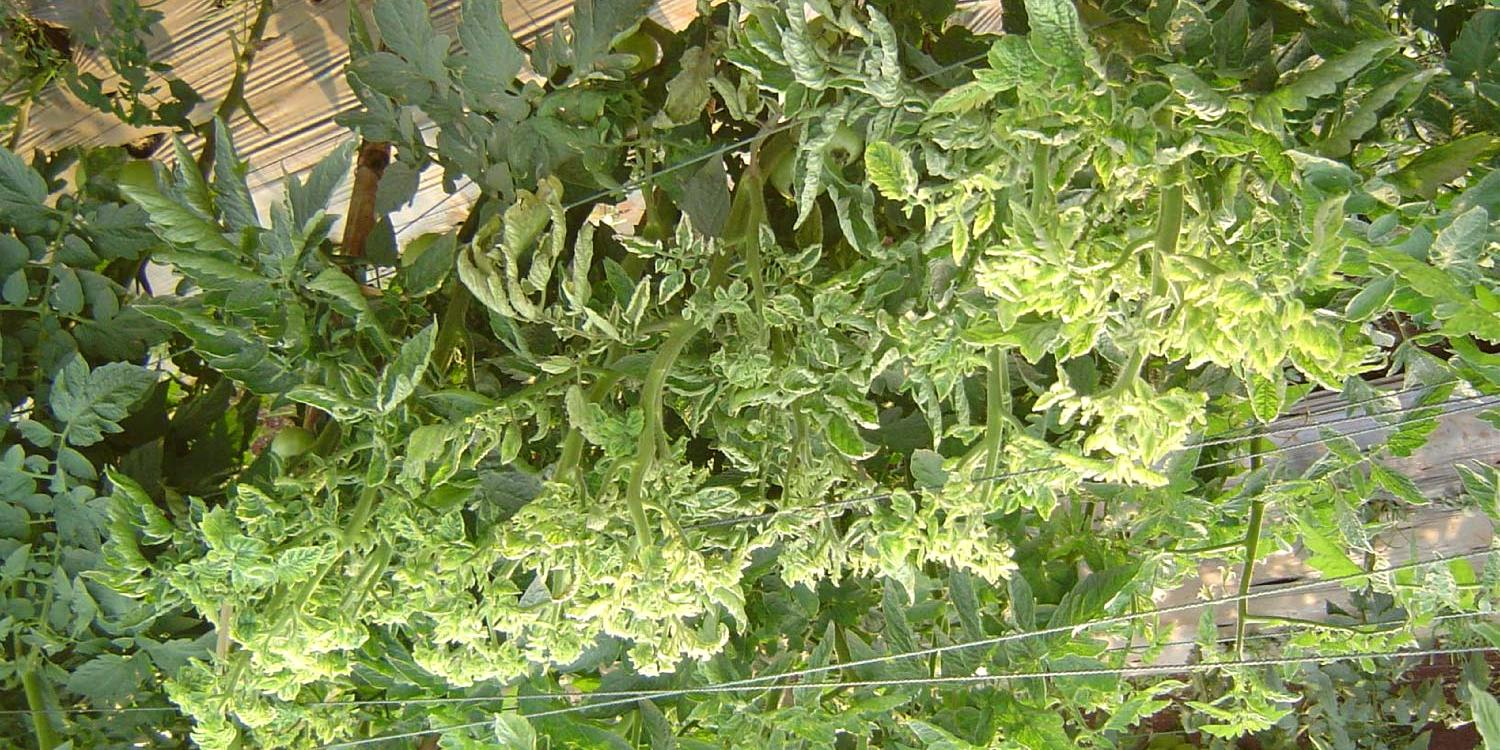Tomato leaf yellow virus: (1017, 0, 1110, 90), (557, 390, 654, 470), (374, 319, 440, 411), (862, 144, 916, 205), (1010, 242, 1054, 309), (816, 407, 872, 458), (1288, 312, 1334, 371), (225, 484, 301, 519), (1228, 285, 1261, 364), (646, 242, 686, 307), (768, 363, 826, 397), (1079, 268, 1114, 318), (768, 286, 813, 323), (789, 240, 823, 271), (760, 204, 775, 269), (727, 273, 749, 305), (696, 256, 715, 292), (1163, 318, 1185, 345)
